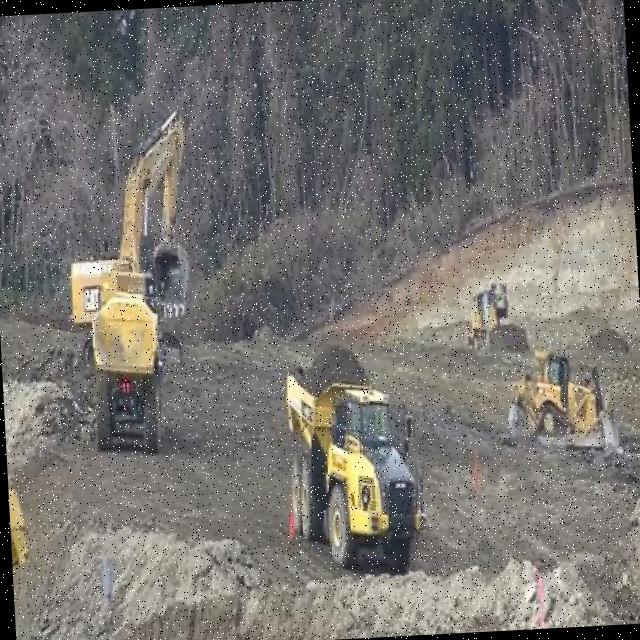Bulldozer: (497, 348, 624, 452), (461, 282, 527, 358)
Dump Truck: (286, 360, 418, 581), (89, 288, 167, 458), (9, 488, 47, 640)
Excavator: (62, 112, 198, 372)
